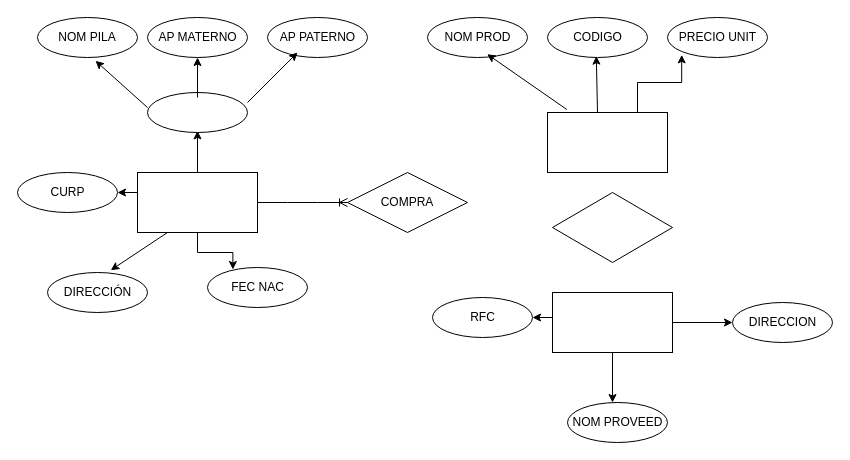
Some shapes in this 850 by 460 pixel diagram are drawn without their labels. The centre of each missing label's shape, as x and y in pixels:
"CLIENTE" goes at point 197,202.
"NOMBRE" goes at point 197,112.
"PRODUCTO" goes at point 607,142.
"PROVEEDOR" goes at point 612,322.
"SURTE" goes at point 612,227.
